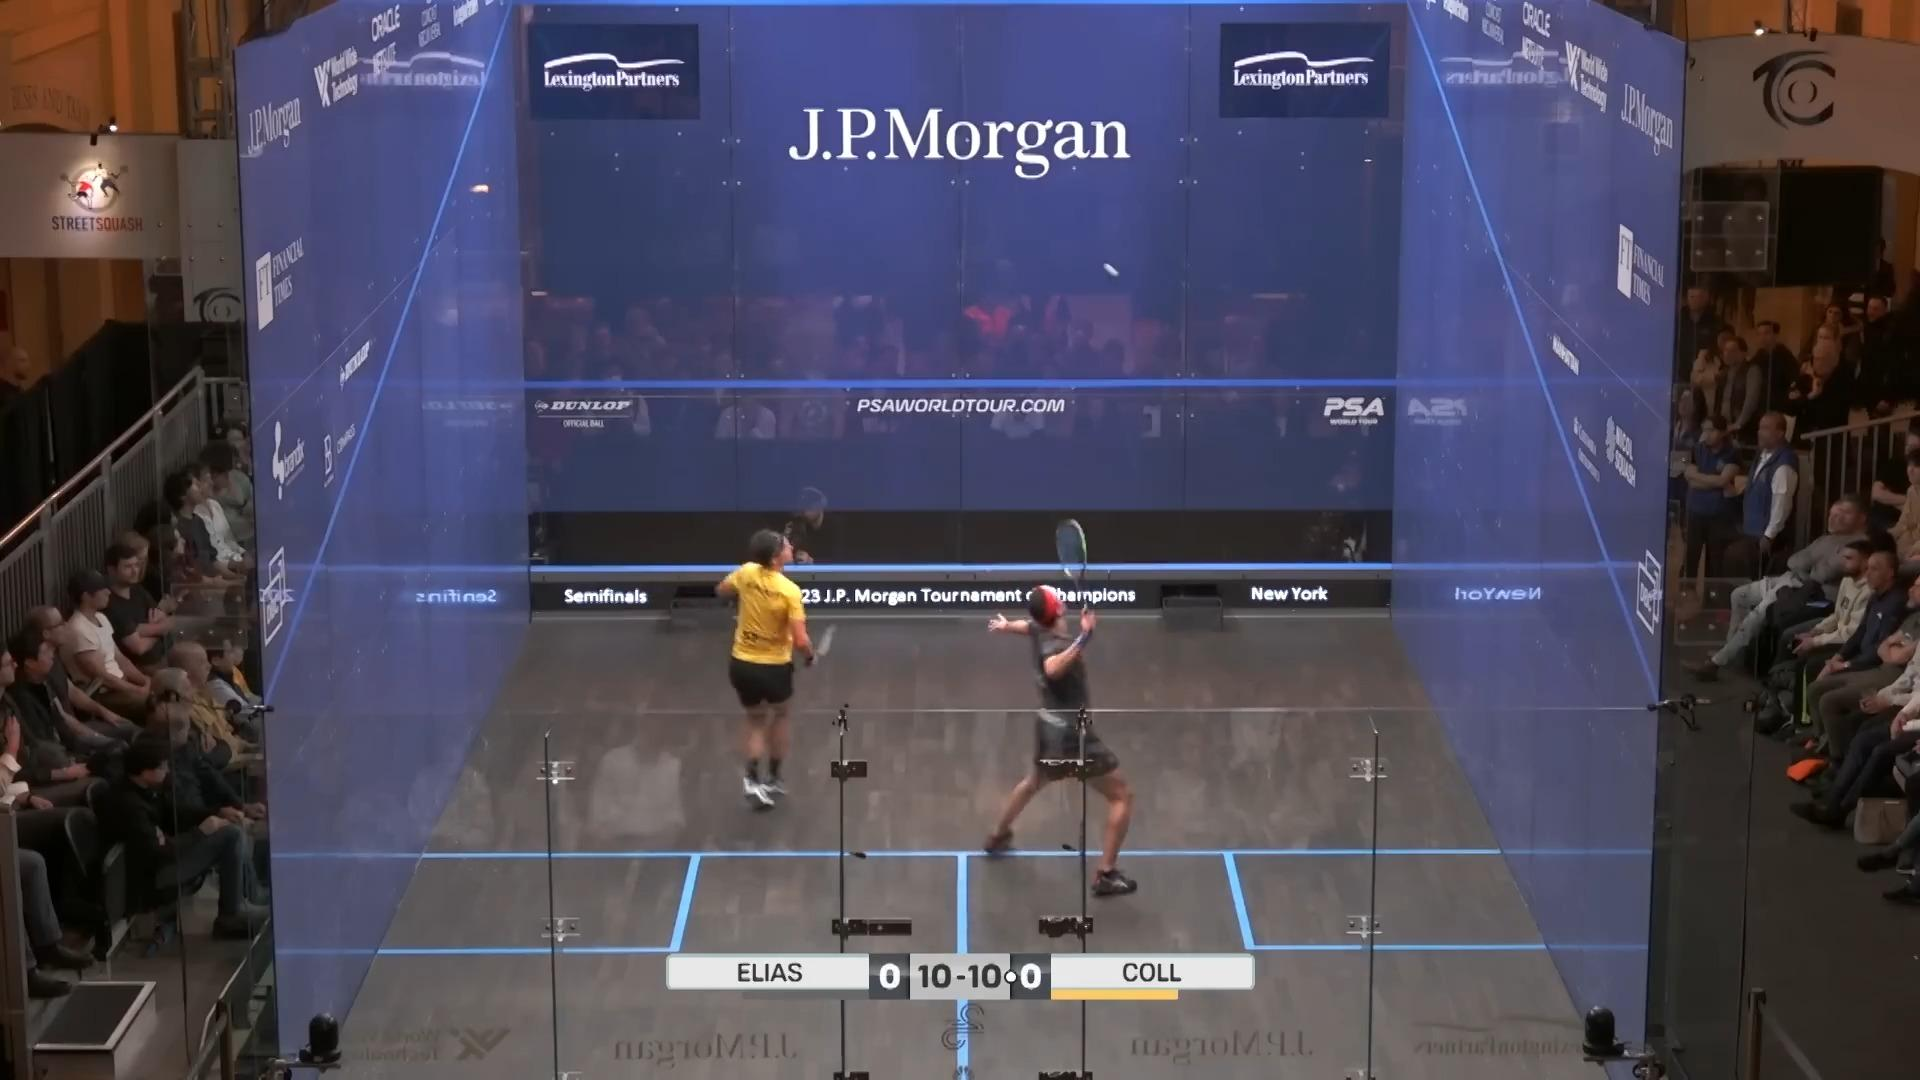Racket: (1050, 509, 1101, 638)
